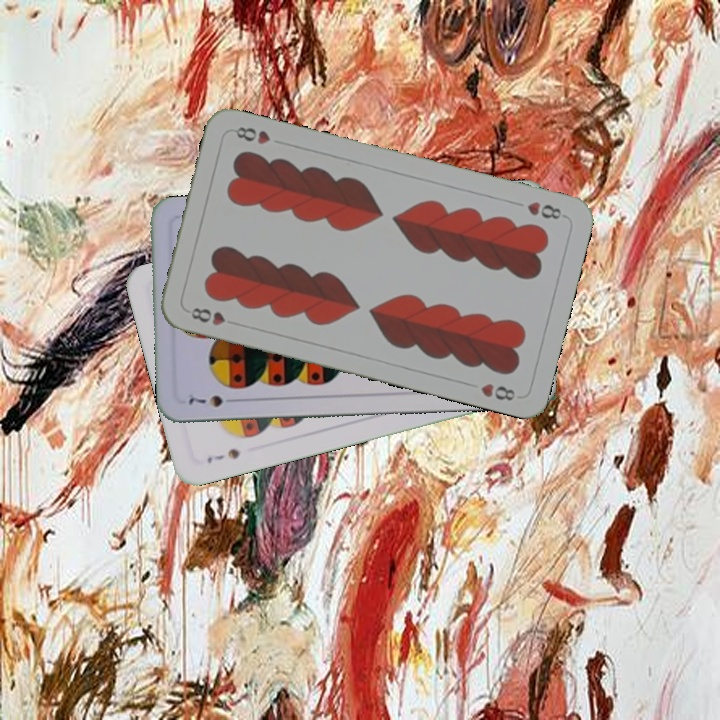H8: (523, 197, 568, 222), (187, 303, 228, 328)
S7: (184, 391, 240, 410), (203, 444, 243, 466)
